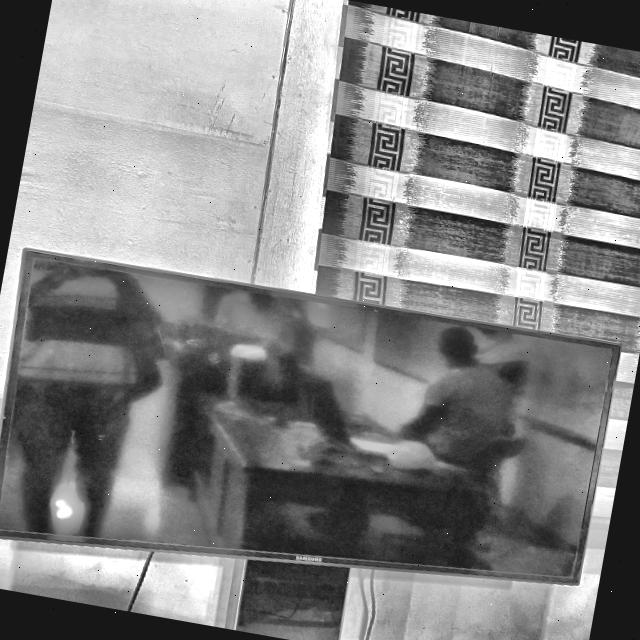screen: (0, 236, 622, 640)
